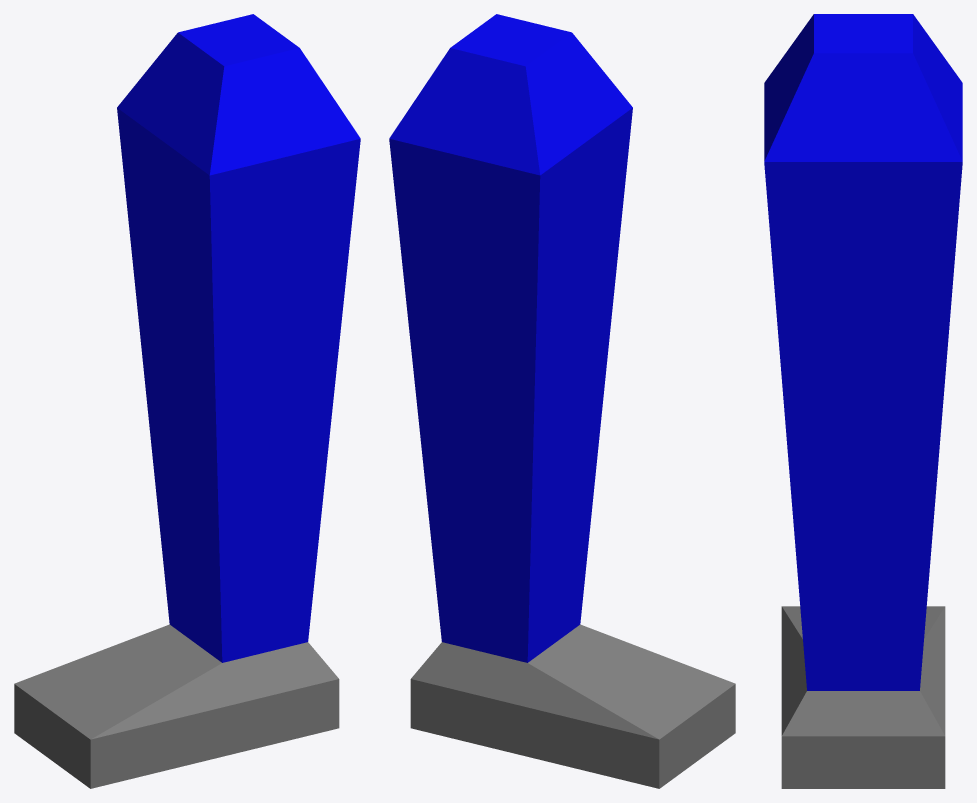
Rendered from BasicMutant-LowerLeg.fbx.
The picture shows the model from 3 angles, left to right: view 1: azimuth 30°, elevation 25°; view 2: azimuth 150°, elevation 25°; view 3: azimuth 270°, elevation 25°; orthographic projection. The views are drawn at different scales.
Parts seen in each view (by area): view 1: BasicMutant-LOWERLEG; view 2: BasicMutant-LOWERLEG; view 3: BasicMutant-LOWERLEG.
Part boxes in pixels (bbox=[...]): BasicMutant-LOWERLEG: bbox=[14, 14, 360, 788]; BasicMutant-LOWERLEG: bbox=[389, 14, 735, 788]; BasicMutant-LOWERLEG: bbox=[764, 14, 962, 788].
Bounding box in the file's own units: 0.272 × 0.6698 × 0.1668.
